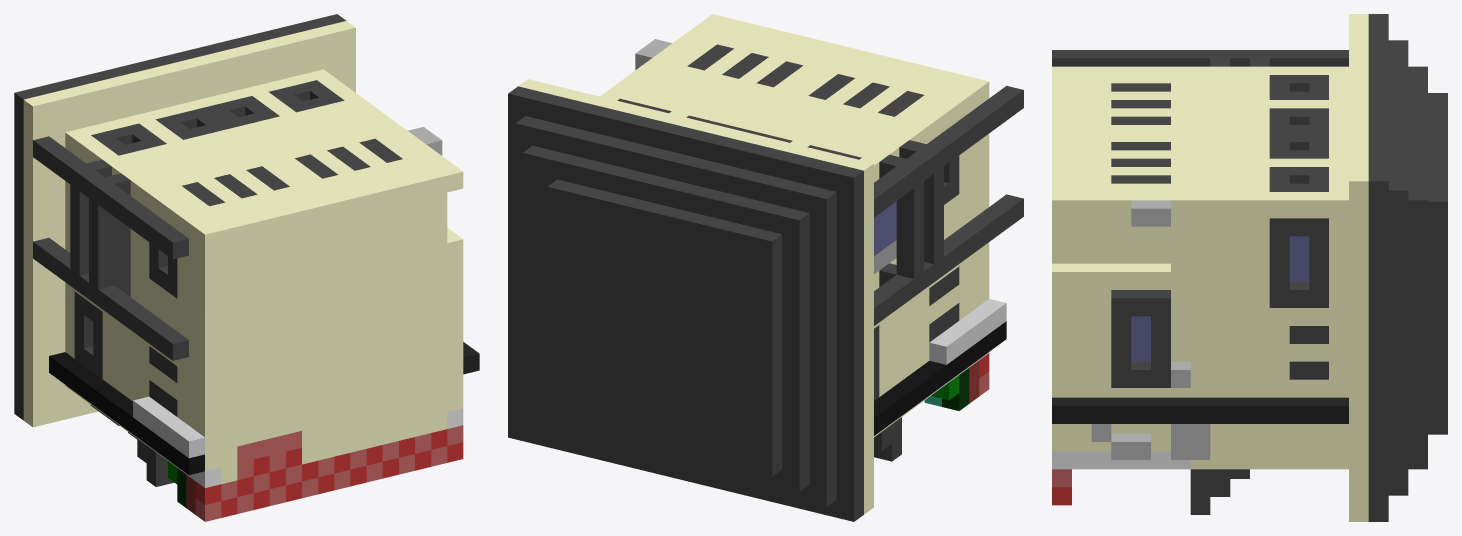
Rendered from yoshida26.fbx.
The picture shows the model from 3 angles, left to right: view 1: azimuth 30°, elevation 25°; view 2: azimuth 150°, elevation 25°; view 3: azimuth 270°, elevation 25°; orthographic projection. The views are drawn at different scales.
Parts seen in each view (by area): view 1: Default; view 2: Default; view 3: Default.
Boxes of the visible parts, <box> form: Default: <box>14,14,479,521</box>; Default: <box>508,14,1023,521</box>; Default: <box>1052,14,1447,521</box>.
Size of the model in its own units: 20 by 20 by 20.
1 material, 1 textured.
